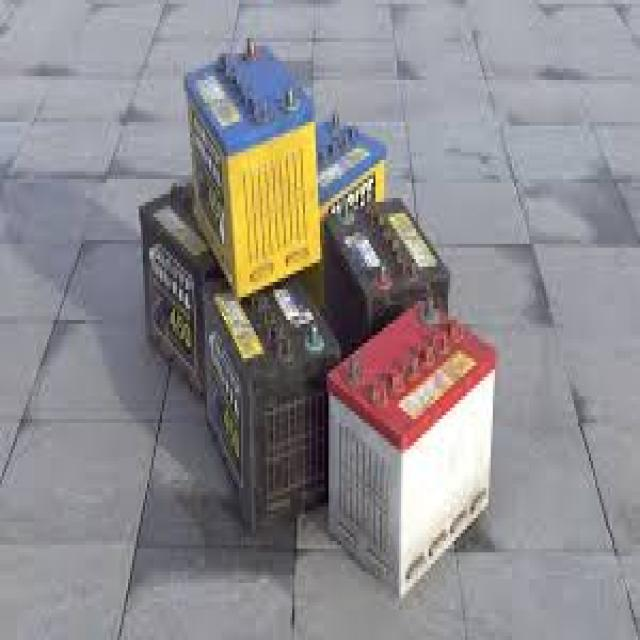battery: (139, 38, 493, 594)
